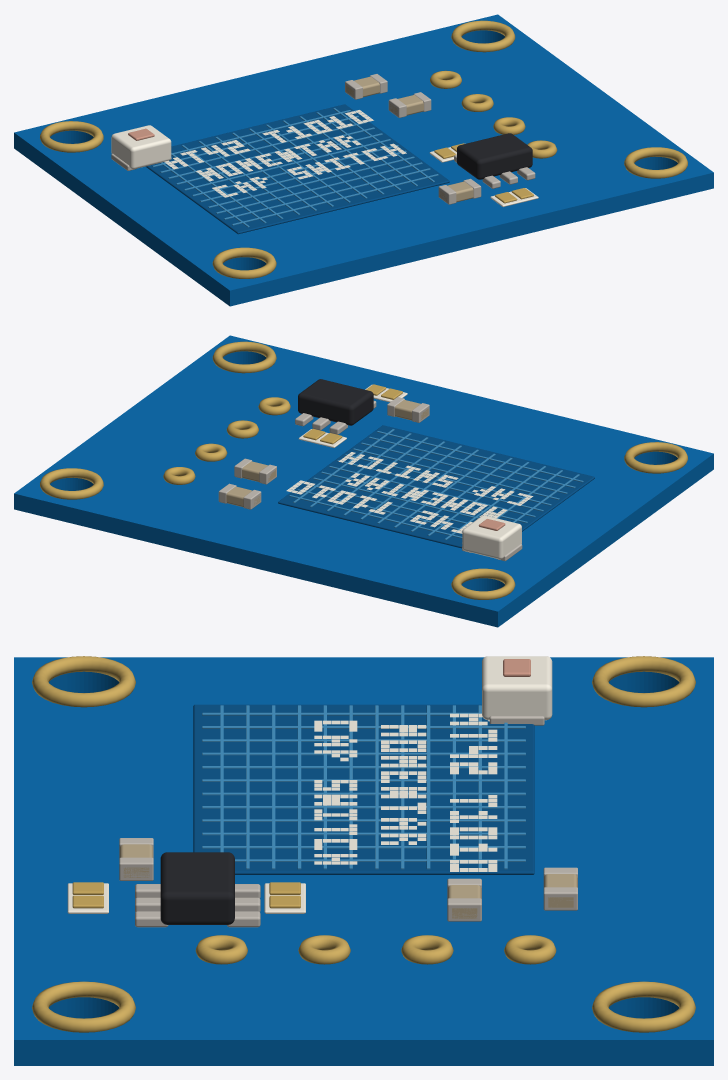
The model's file is components-09.glb.
3 views of the same model, one above another, from view 1: azimuth 30°, elevation 25°; view 2: azimuth 150°, elevation 25°; view 3: azimuth 270°, elevation 25° (orthographic). The views are drawn at different scales.
Parts seen in each view (by area): view 1: board, electrode, chip, mounts, led, pads, jumpers; view 2: board, electrode, chip, mounts, led, pads, jumpers; view 3: board, electrode, mounts, chip, pads, led, jumpers.
Part boxes in pixels (x1,y1,x2,y2): board: [14, 14, 713, 306]; electrode: [145, 104, 449, 234]; chip: [345, 74, 535, 204]; mounts: [40, 20, 687, 278]; led: [111, 125, 171, 170]; pads: [430, 70, 557, 158]; jumpers: [429, 143, 538, 206]; board: [14, 335, 713, 627]; electrode: [278, 425, 594, 548]; chip: [218, 379, 429, 509]; mounts: [40, 341, 687, 599]; led: [462, 515, 522, 561]; pads: [163, 397, 290, 484]; jumpers: [298, 384, 407, 447]; board: [14, 657, 713, 1065]; electrode: [193, 704, 534, 874]; mounts: [32, 656, 695, 1032]; chip: [119, 838, 577, 927]; pads: [195, 935, 556, 964]; led: [482, 656, 552, 725]; jumpers: [67, 882, 305, 913].
Size of the model in its own units: 2.07 by 0.1765 by 1.6.
